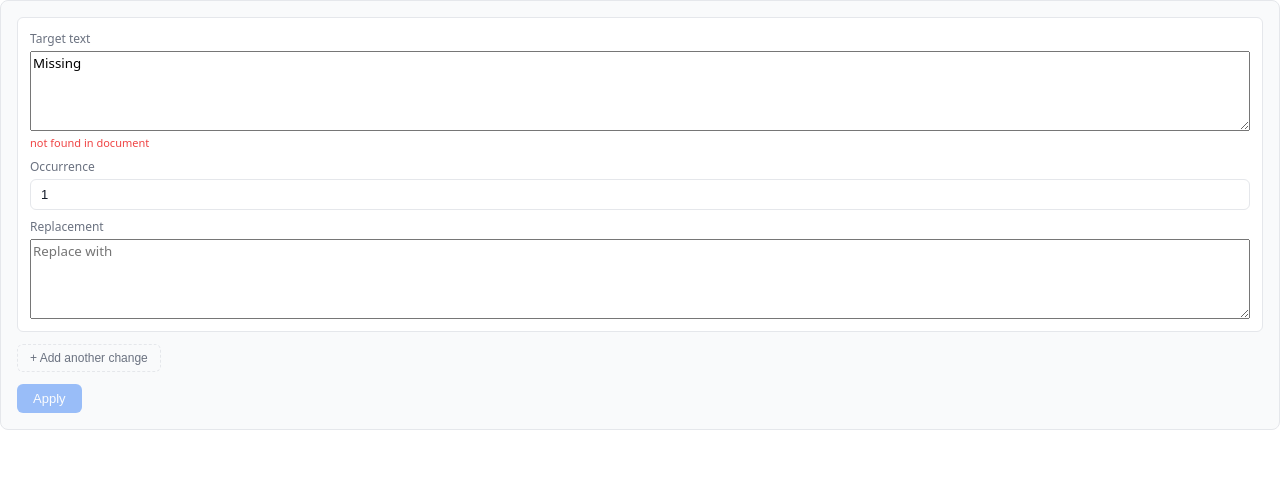
Test case: ChangeForm › shows error message when applyChanges rejects
The image size is (1280, 500).
Type "Replacement" into the text box with placeholder "Replace with" at point(640, 279), box [30, 239, 1250, 319]
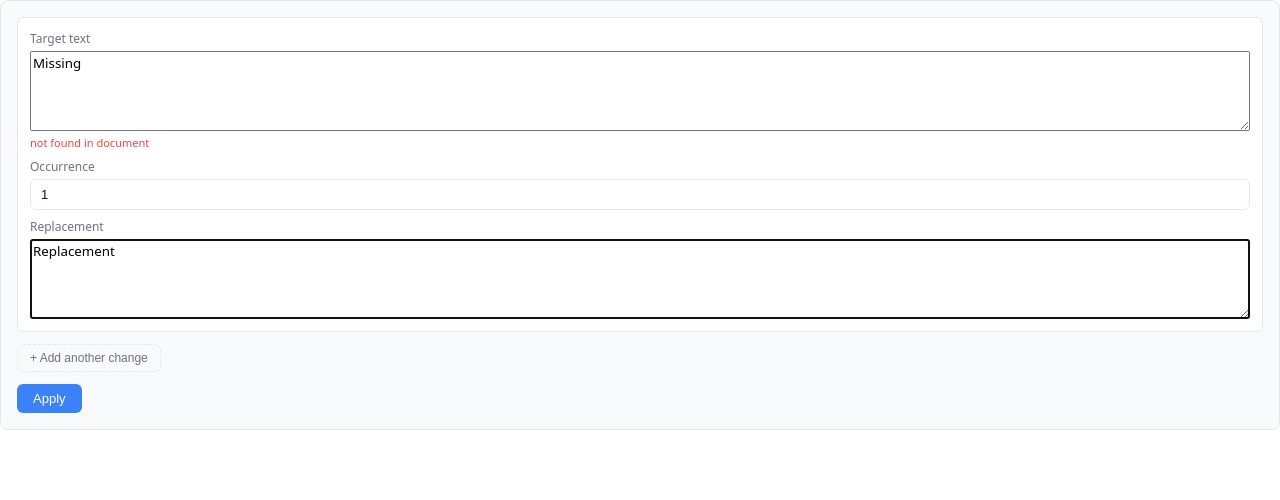
Click the button "Apply" at point(49, 398), box [17, 384, 82, 413]
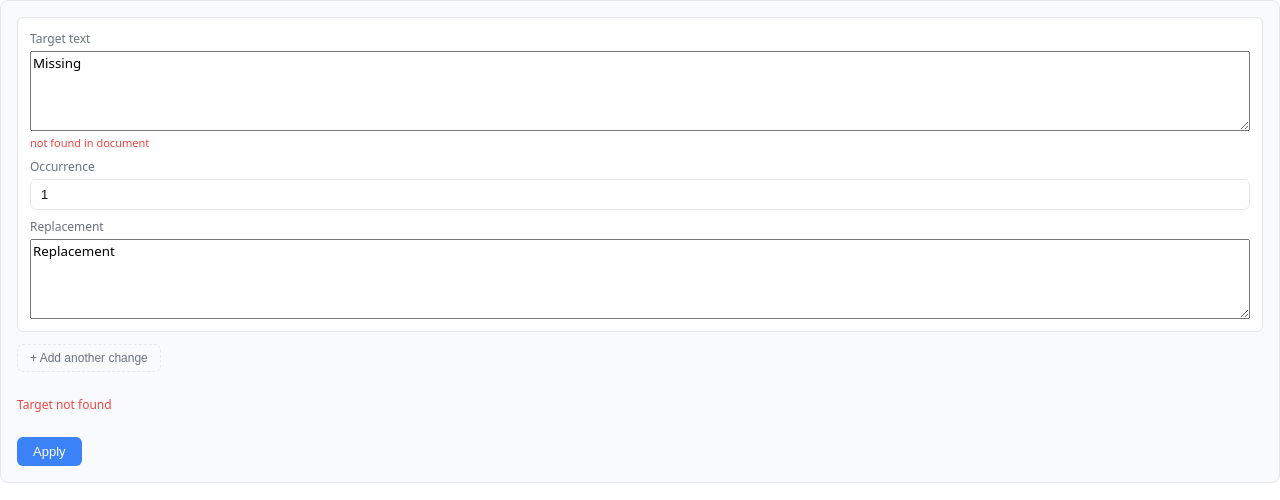
Now the text "Target not found" is shown, box [17, 396, 112, 413]
